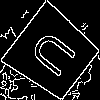U: (27, 28, 86, 85)
